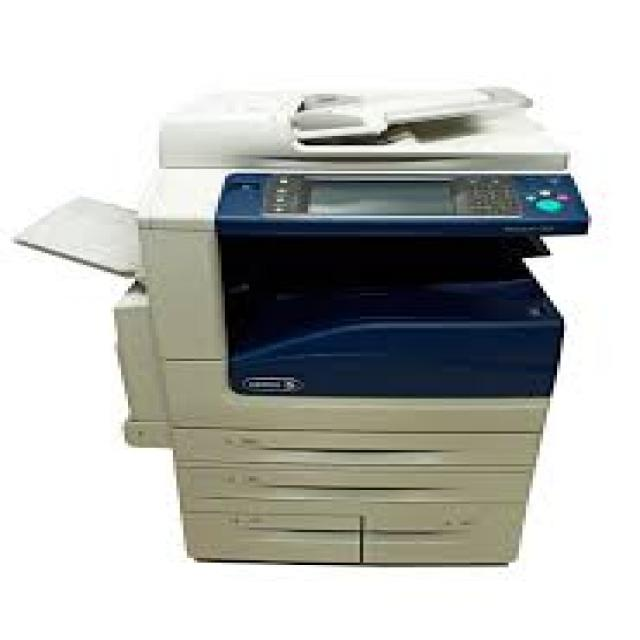printer: (3, 66, 608, 582)
